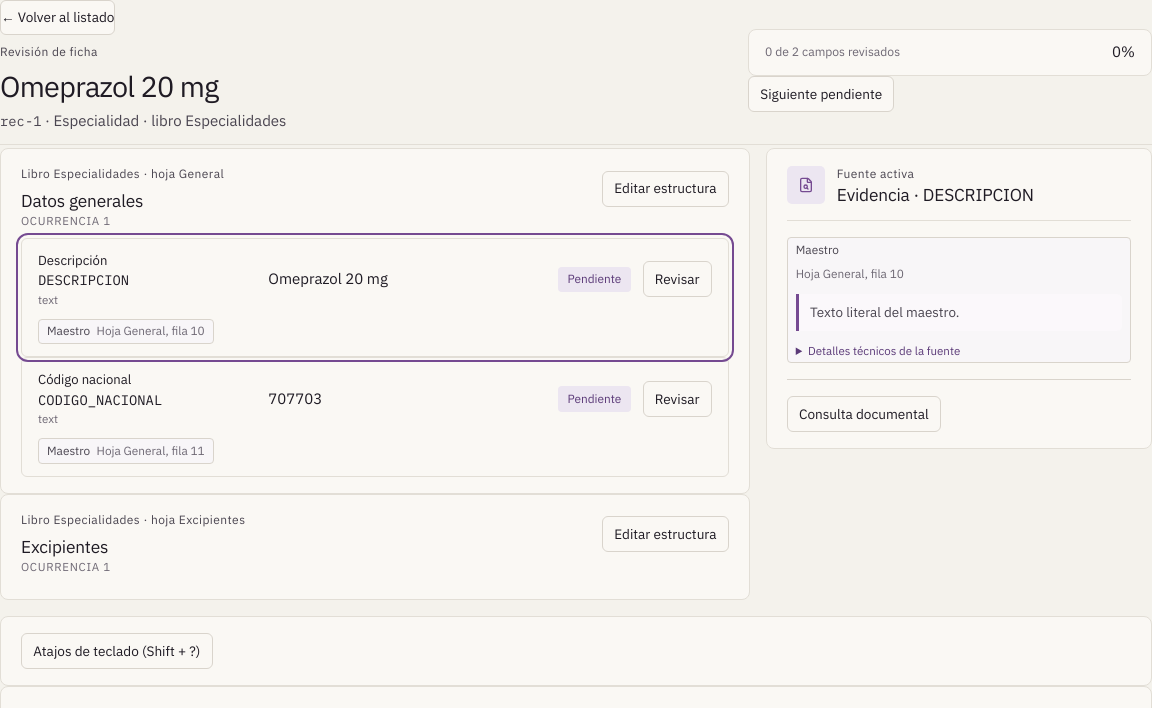
muestra el mensaje del backend cuando la decisión se rechaza
Check: the heading "Omeprazol 20 mg" is shown, box top-left (0, 66), bottom-right (219, 104)
Click the button "Revisar" in the row of "Descripción" at (677, 279), box top-left (643, 261), bottom-right (712, 297)
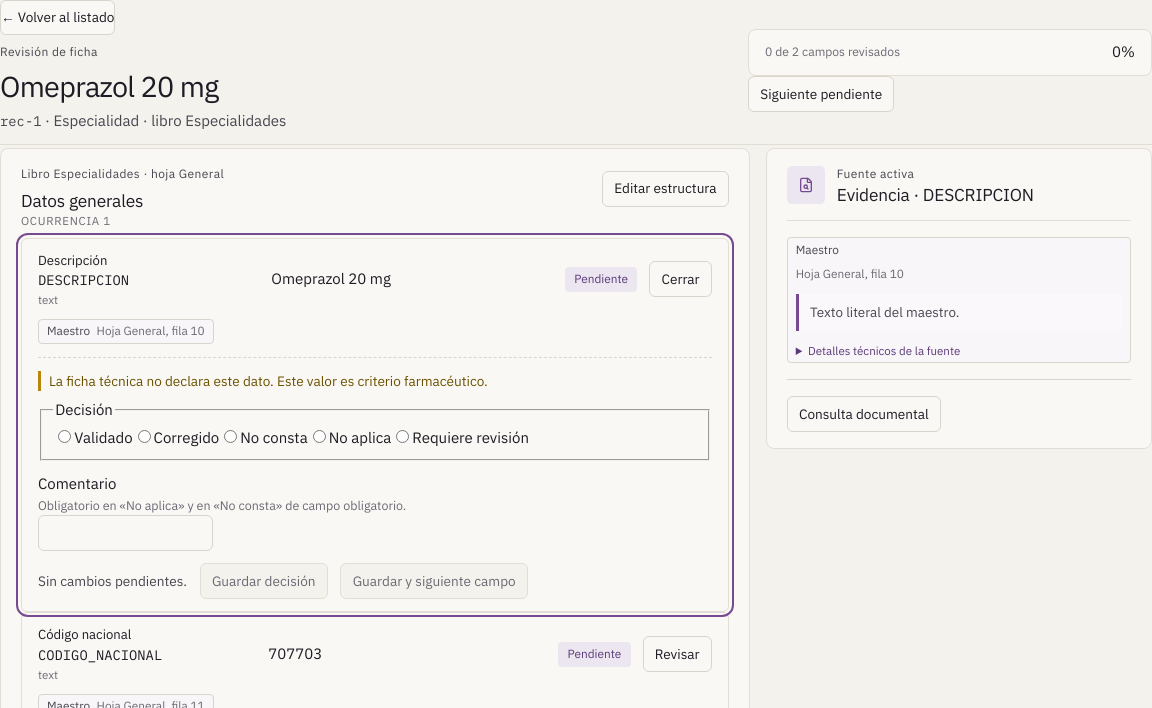
Click the radio button labelled "Validado" at (65, 436), box top-left (58, 430), bottom-right (71, 443)
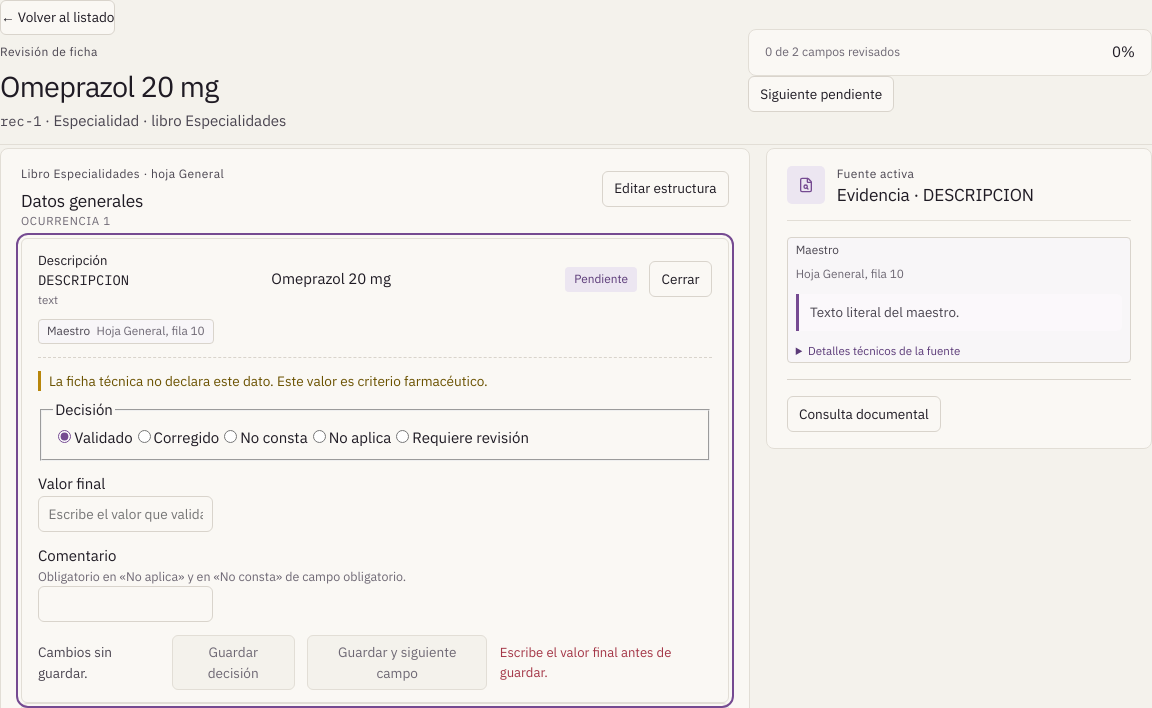
Type "x" into the field labelled "Valor final" at (126, 514), box top-left (38, 496), bottom-right (213, 532)
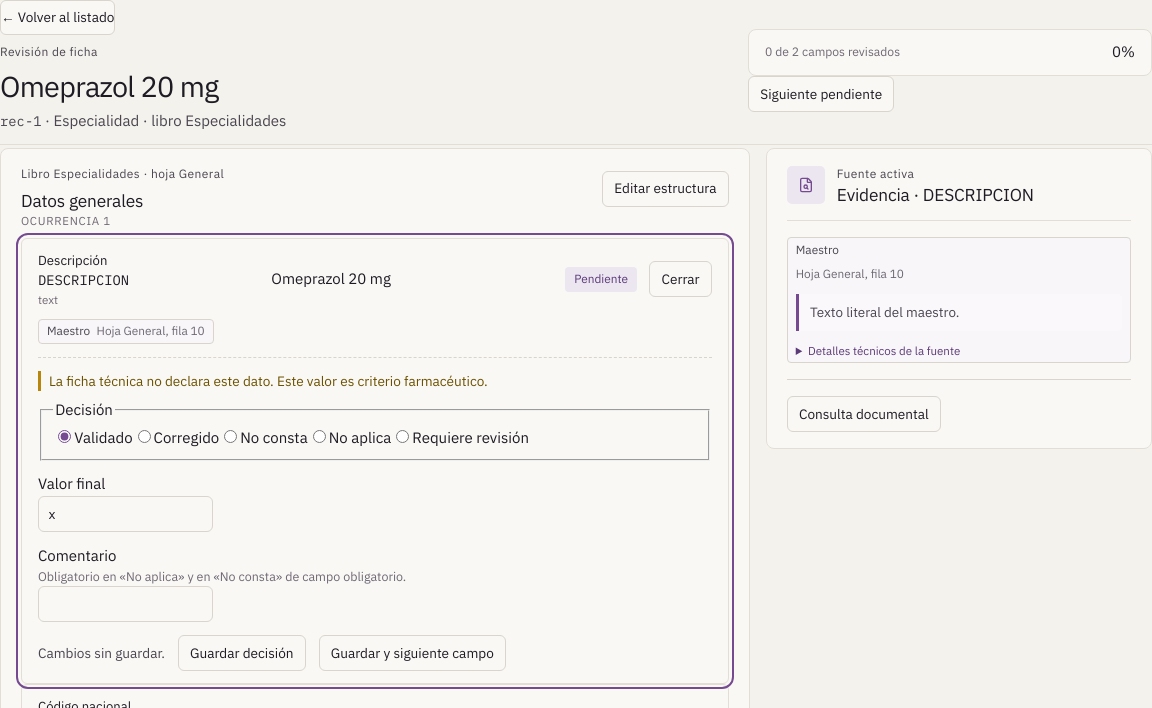
Click the button "Guardar decisión" at (242, 653), box top-left (178, 635), bottom-right (306, 671)
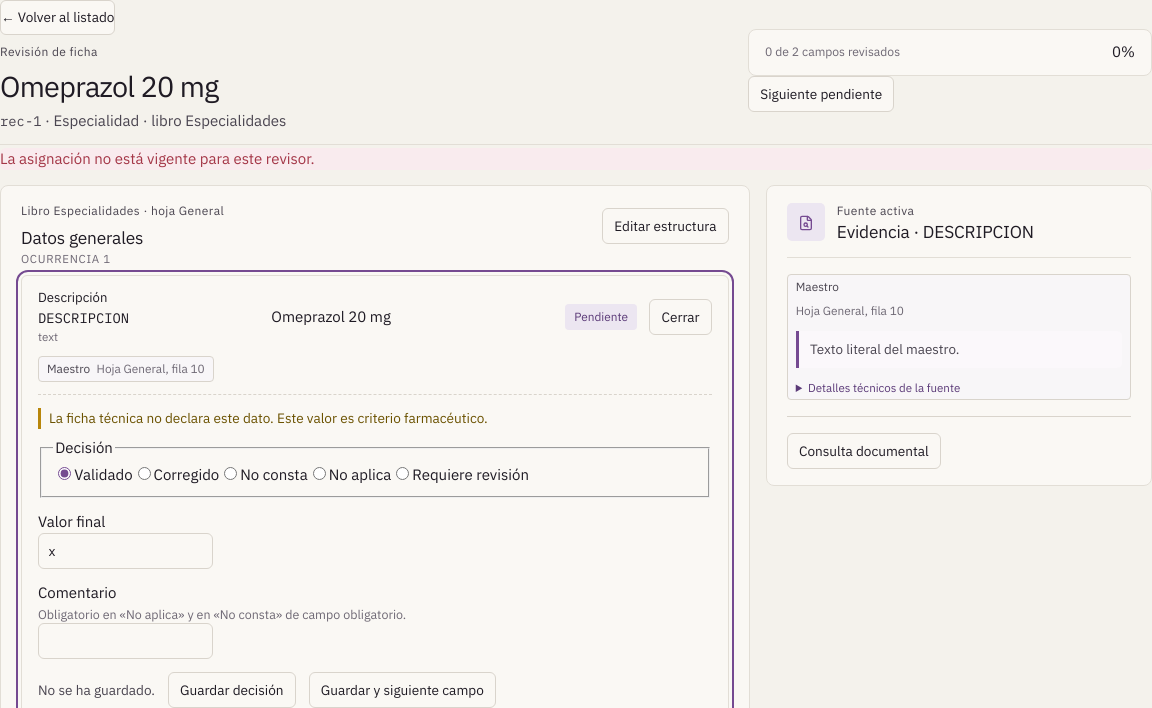
Check: the text "La asignación no está vigente para este revisor." is shown, box top-left (0, 148), bottom-right (1151, 170)
